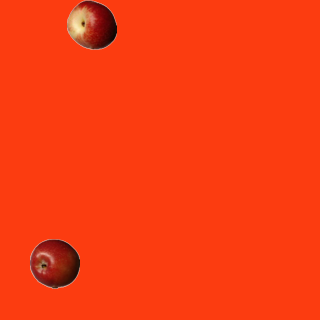Apple Braeburn: (29, 238, 79, 288)
Nectarine: (66, 0, 116, 49)
